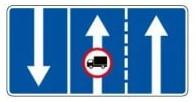road_sign: (5, 4, 190, 97)
